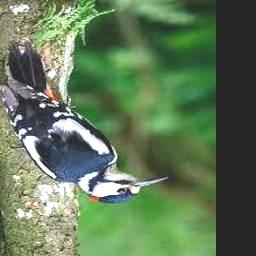Woodpecker: (0, 40, 168, 204)
